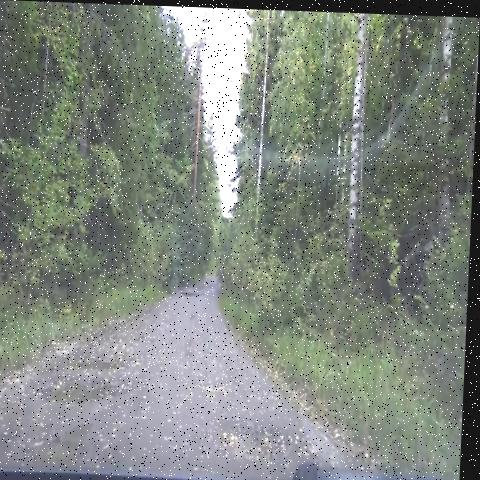pothole: (218, 411, 318, 472), (22, 412, 105, 470), (30, 374, 134, 413), (70, 349, 129, 374), (177, 284, 204, 301)
